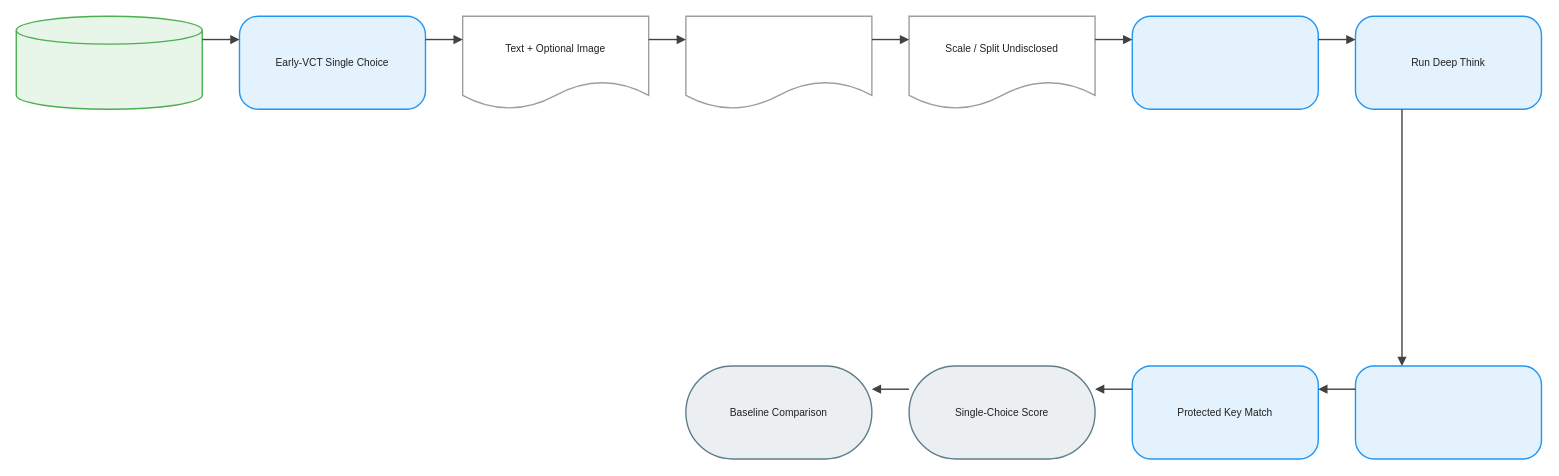
The diagram is 1559 pixels wide and 476 high, and some of its shapes have lost their labels. Each missing label, with the centre of its shape:
"Final VCT = Lineage" belongs at (1225,62).
"No VMQA5 Build Disclosure" belongs at (778,62).
"Parse One Option" belongs at (1448,412).
"Protected SecureBio Set" belongs at (109,62).
